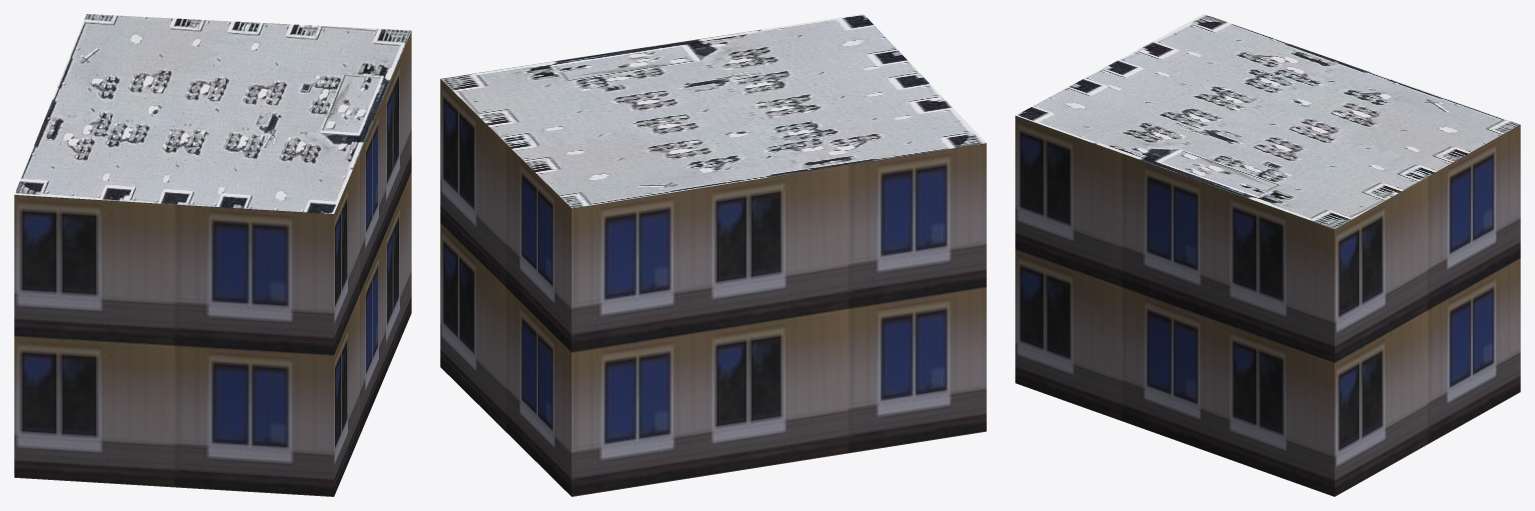
Rendered from ResTex__267.fbx.
3 renders of one model, left to right at view 1: azimuth 30°, elevation 25°; view 2: azimuth 150°, elevation 25°; view 3: azimuth 270°, elevation 25°, orthographic. The views are drawn at different scales.
Visible parts, largest first — view 1: CityEngineMaterial_5_m, CityEngineMaterial_8_m; view 2: CityEngineMaterial_5_m, CityEngineMaterial_8_m; view 3: CityEngineMaterial_5_m, CityEngineMaterial_8_m.
Boxes of the visible parts, box(x1,y1,x2,y2) form: CityEngineMaterial_5_m: box(14, 31, 411, 496); CityEngineMaterial_8_m: box(14, 14, 411, 213); CityEngineMaterial_5_m: box(440, 79, 986, 496); CityEngineMaterial_8_m: box(441, 14, 985, 208); CityEngineMaterial_5_m: box(1015, 115, 1520, 496); CityEngineMaterial_8_m: box(1016, 14, 1519, 229).
Bounding box in the file's own units: 10.35 × 6 × 10.26.
Materials: 2 (2 with a texture image).
